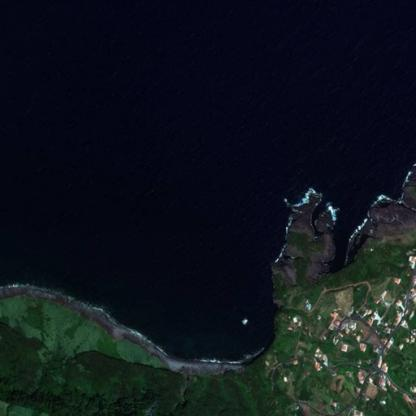ship: (234, 309, 251, 328)
